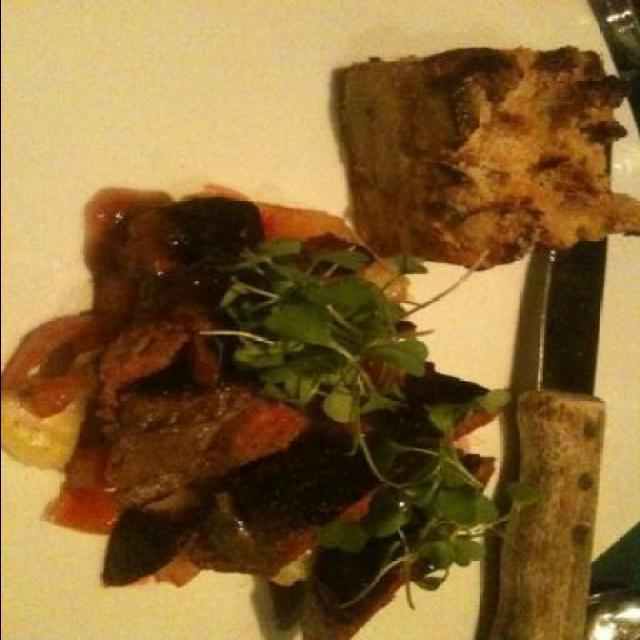Steak: (75, 172, 413, 610)
